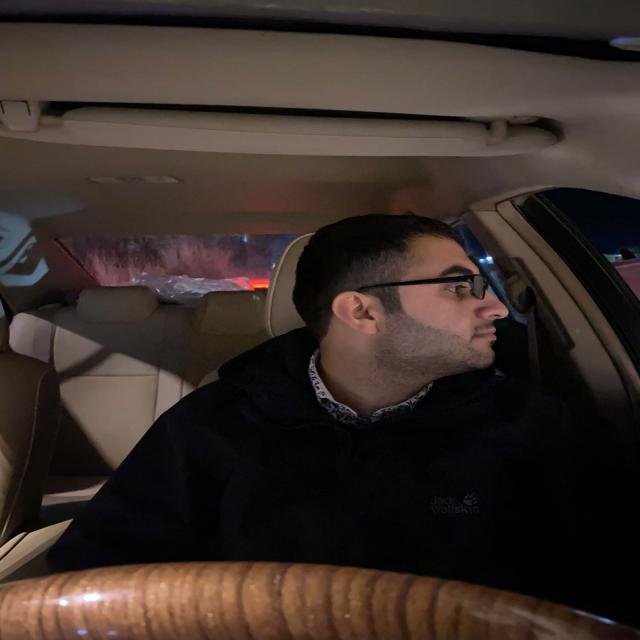LeftRight: (303, 218, 510, 376)
